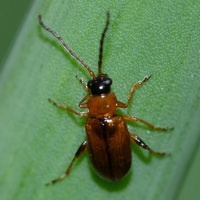insect: (38, 10, 172, 182)
